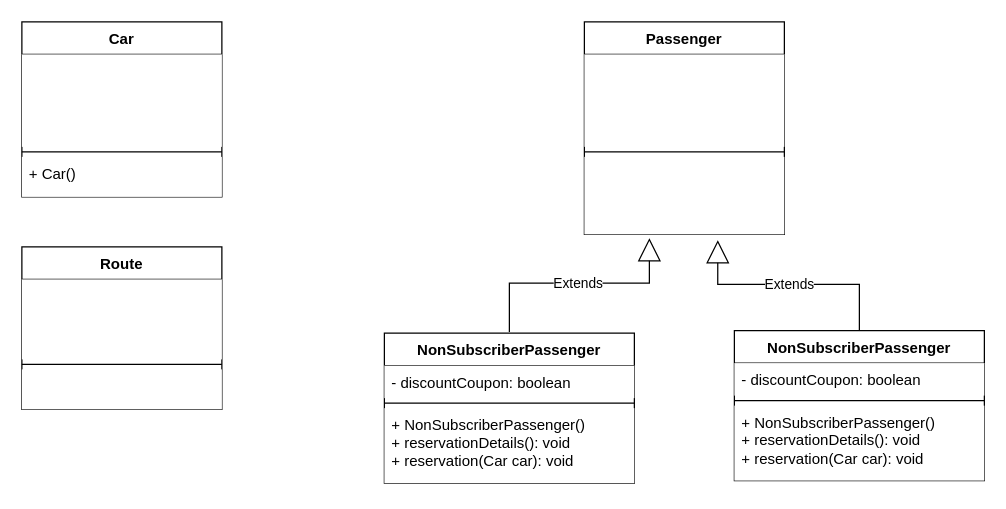
Some shapes in this 1006 by 509 pixel diagram are drawn without their labels. Here are the shapes that lost their labels. From the top down, the centre of each, then its label:
At point 121,100: "- code: String - fixedRoute: Route - maximumCapacity: int - availableSeat: int".
At point 684,100: "- name: String - ID: String - reservedCar: Car - tripCost: double".
At point 684,195: "+ Passenger() + reservationDetails(): void + reservation(Car car): void".
At point 121,319: "- pickUp: String - destination: String - tripCost: double".
At point 121,389: "+ Route()".
